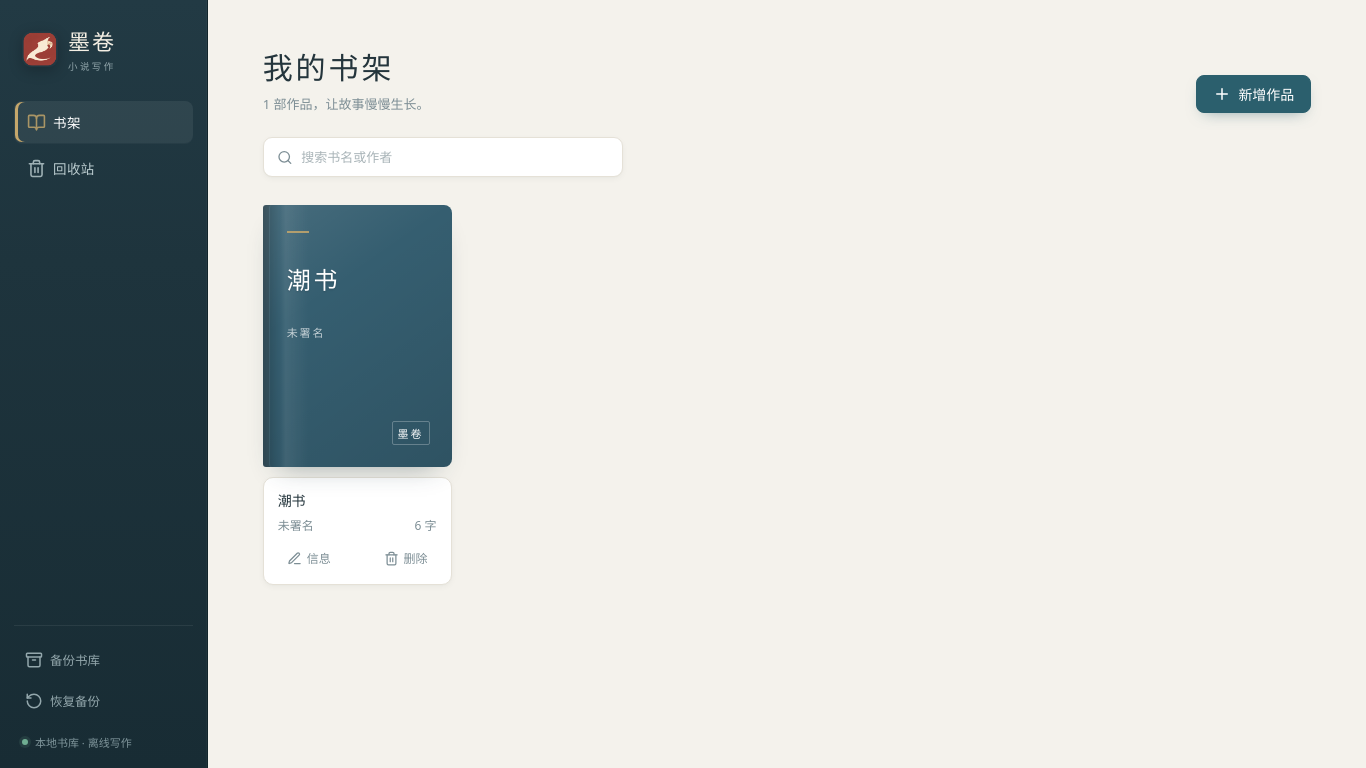
Test: cannot load a stale checkpoint or revive an acknowledged canonical duplicate
Click the button with aria-label "打开 潮书".
click(357, 336)  # box [263,205,452,467]
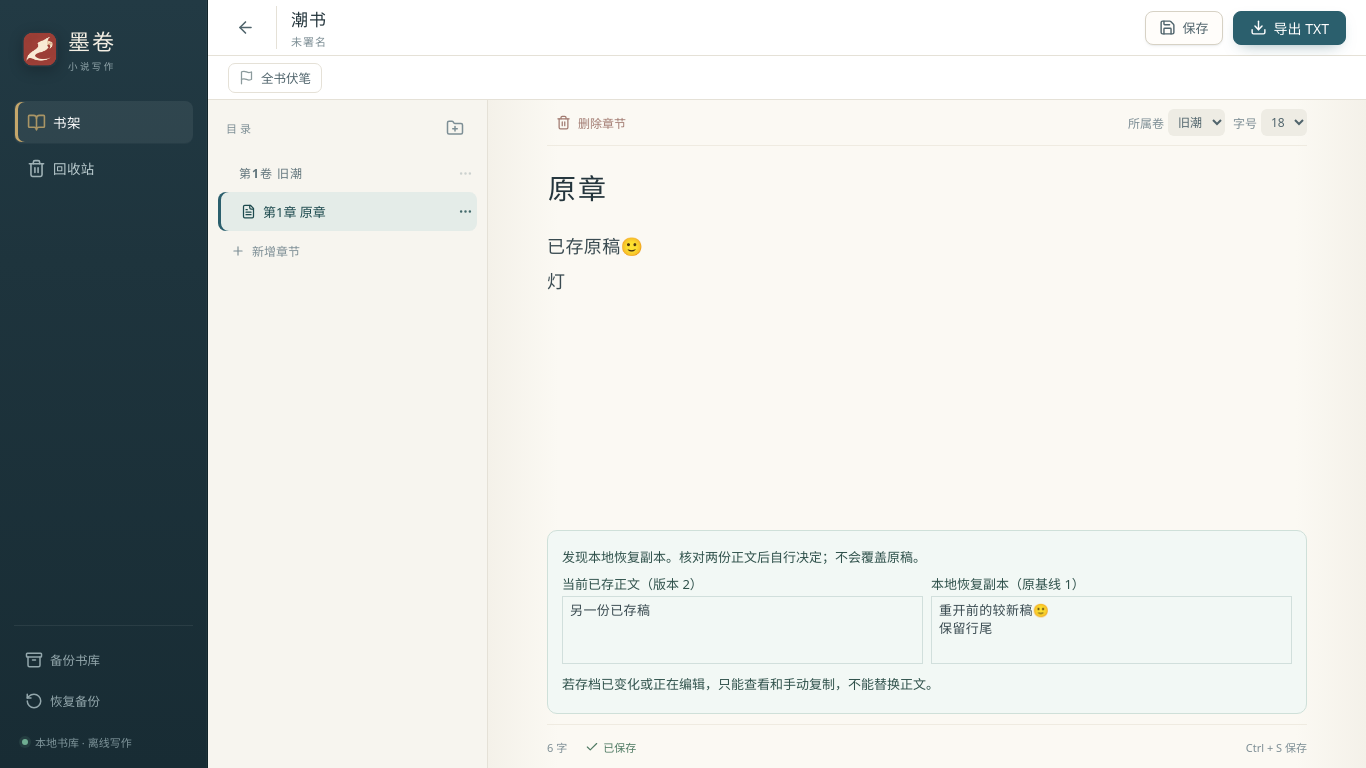
Check: the text box labelled "当前已存正文" holds "另一份已存稿", box [562,596,923,664]
